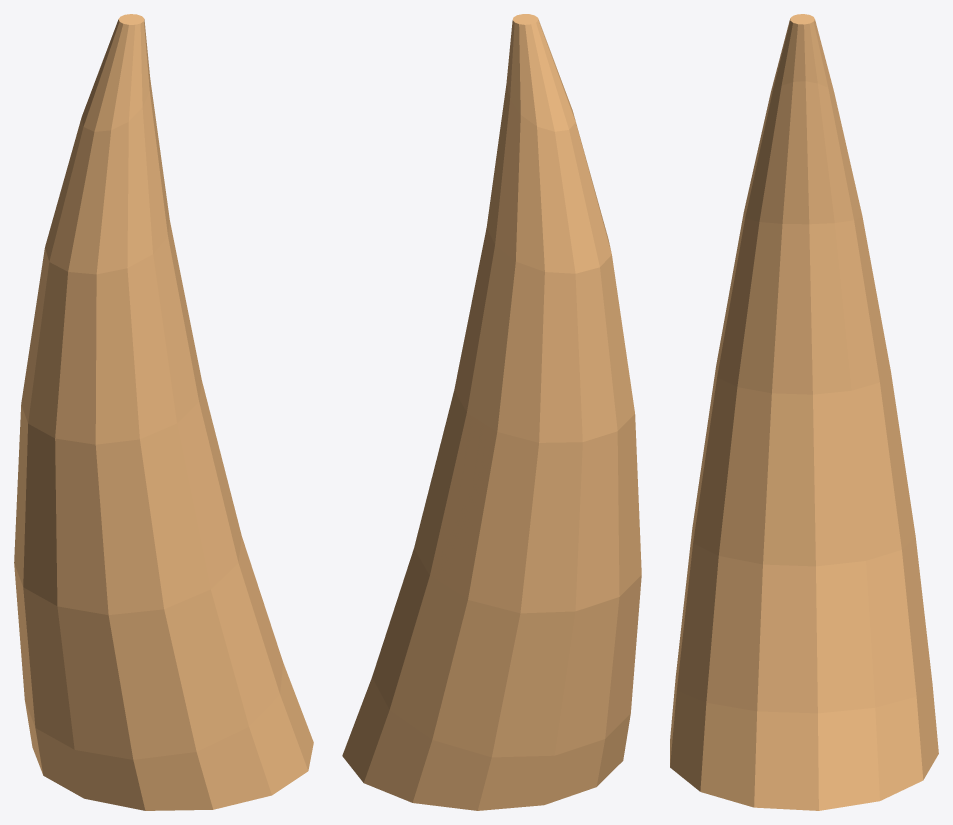
Rendered from Tusk 03.fbx.
3 renders of one model, left to right at view 1: azimuth 30°, elevation 25°; view 2: azimuth 150°, elevation 25°; view 3: azimuth 270°, elevation 25°, orthographic. The views are drawn at different scales.
Parts seen in each view (by area): view 1: Tusk 03; view 2: Tusk 03; view 3: Tusk 03.
Part boxes in pixels (x1=…): Tusk 03: x1=14, y1=14, x2=313, y2=810; Tusk 03: x1=342, y1=14, x2=641, y2=810; Tusk 03: x1=670, y1=14, x2=938, y2=810.
Size of the model in its own units: 100 by 268 by 91.3.
